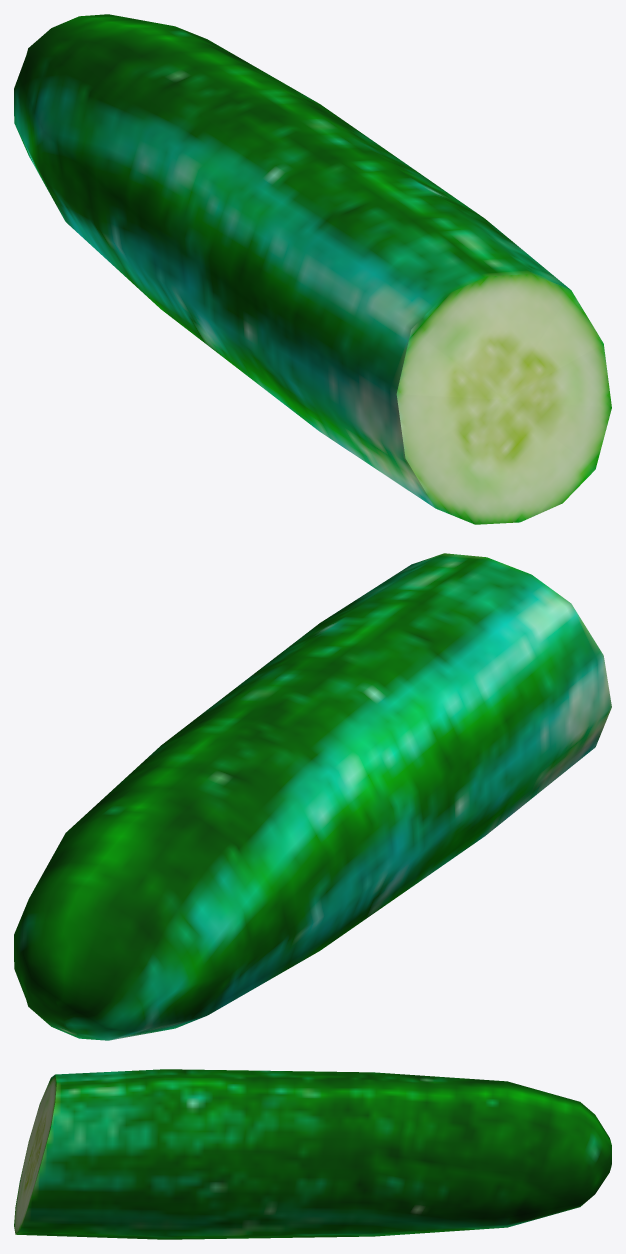
Rendered from Cucumber.fbx.
The picture shows the model from 3 angles, top to bottom: view 1: azimuth 30°, elevation 25°; view 2: azimuth 150°, elevation 25°; view 3: azimuth 270°, elevation 25°; orthographic projection. The views are drawn at different scales.
Visible parts, largest first — view 1: Cucumber; view 2: Cucumber; view 3: Cucumber.
Boxes of the visible parts, <box> form: Cucumber: <box>14,14,611,524</box>; Cucumber: <box>14,553,611,1040</box>; Cucumber: <box>14,1069,611,1239</box>.
Size of the model in its own units: 6.3 by 6.67 by 23.68.
